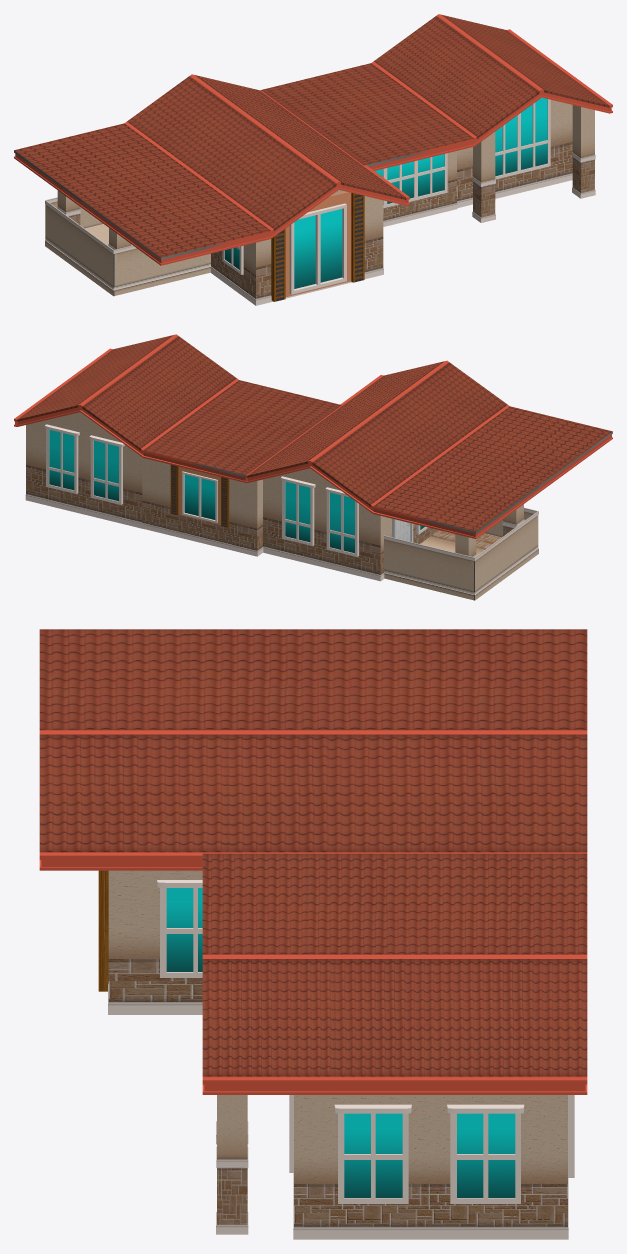
The model's file is BAT4_SETC_HOUSE6.fbx.
3 renders of one model, top to bottom at view 1: azimuth 30°, elevation 25°; view 2: azimuth 150°, elevation 25°; view 3: azimuth 270°, elevation 25°, orthographic. The views are drawn at different scales.
Parts seen in each view (by area): view 1: Batch4_6; view 2: Batch4_6; view 3: Batch4_6.
Part boxes in pixels (x1,y1,x2,y2): Batch4_6: (14,14,612,305); Batch4_6: (14,334,612,600); Batch4_6: (39,629,587,1239).
Size of the model in its own units: 88.41 by 20.82 by 45.39.
Materials: 1 (1 with a texture image).
